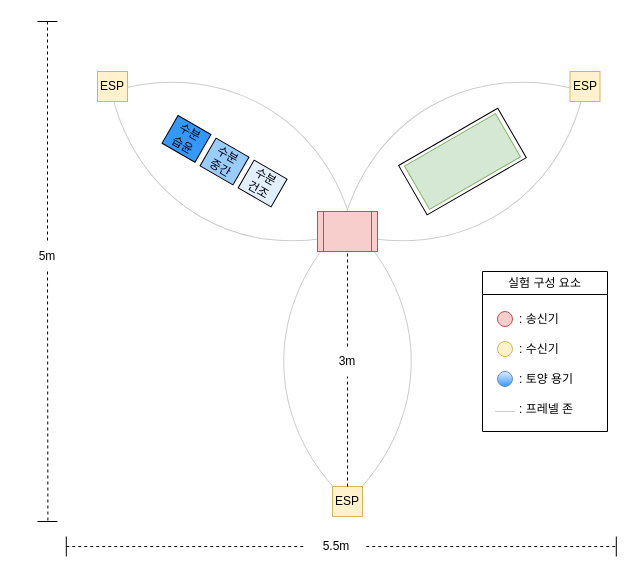
This 644x579 diagram has some shape labels left out. Each missing label, with the centre of its shape:
AX3000T: (347,231)
상추 모종: (462,161)
